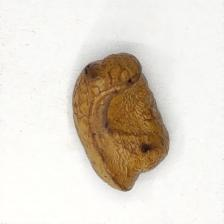NG: (73, 51, 150, 176)
